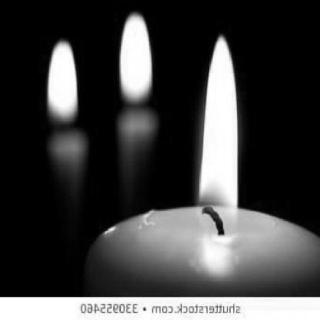Fire: (37, 25, 99, 139)
